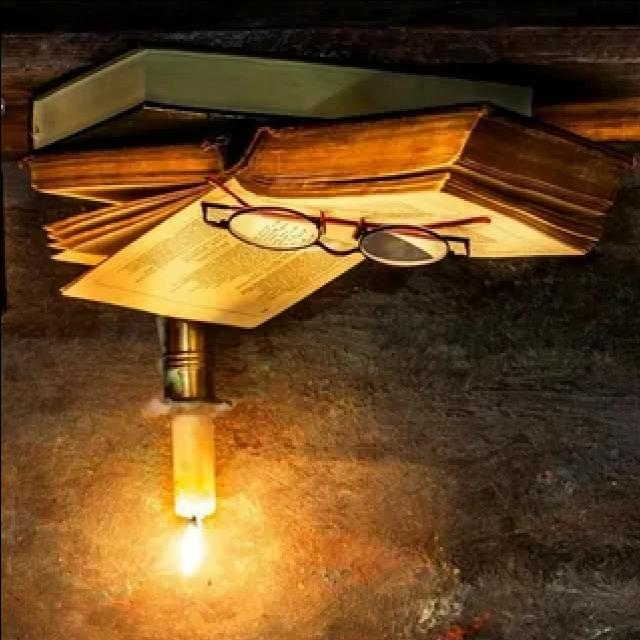book: (16, 96, 629, 344)
